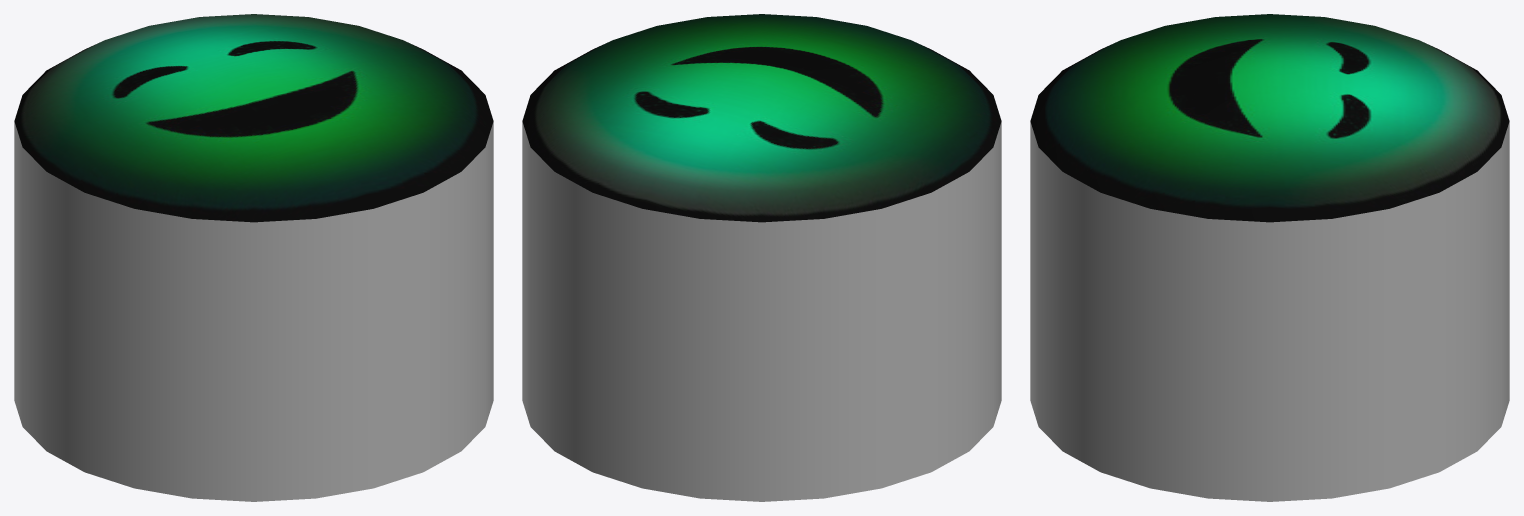
The model's file is button-4.fbx.
3 renders of one model, left to right at view 1: azimuth 30°, elevation 25°; view 2: azimuth 150°, elevation 25°; view 3: azimuth 270°, elevation 25°, orthographic.
Visible parts, largest first — view 1: Cylinder.008; view 2: Cylinder.008; view 3: Cylinder.008.
Part boxes in pixels (x1=…): Cylinder.008: x1=14, y1=14, x2=493, y2=501; Cylinder.008: x1=522, y1=14, x2=1001, y2=501; Cylinder.008: x1=1030, y1=14, x2=1509, y2=501.
Bounding box in the file's own units: 20.19 × 15.01 × 20.19.
Materials: 2 (1 with a texture image).
